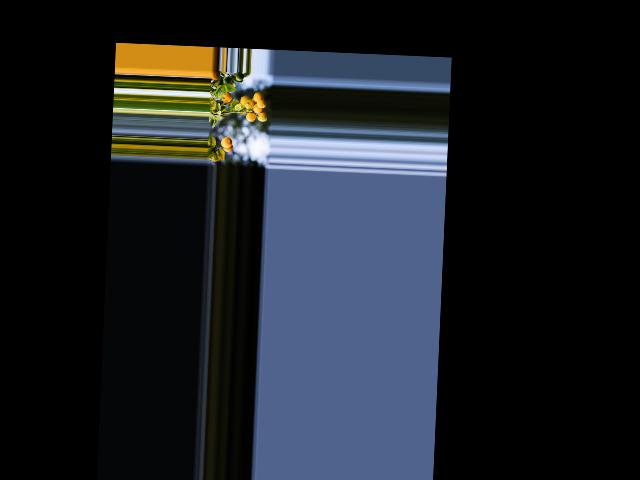lemon: (252, 92, 266, 103)
